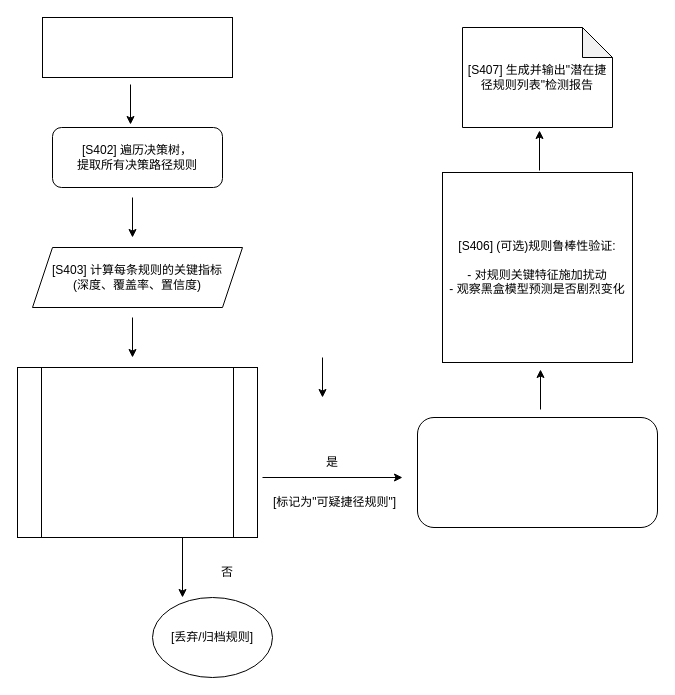
The diagram is 675 pixels wide and 695 high, and some of its shapes have lost their labels. The box of each missing label's shape, as (x1, y1, x2, y2) in pixels:
[S401] 输入: 高保真代理决策树: (42, 16, 232, 78)
[S404] 初步筛选: 规则深度 ≤ D1 且 覆盖率 ≥ C1? (D1, C1 为预设阈值): (16, 366, 258, 538)
[S405] 域知识辅助的语义分析: - 规则依赖的特征是否与任务语义相关？ - 特征是否可能为数据集特有伪相关？: (416, 416, 658, 528)
